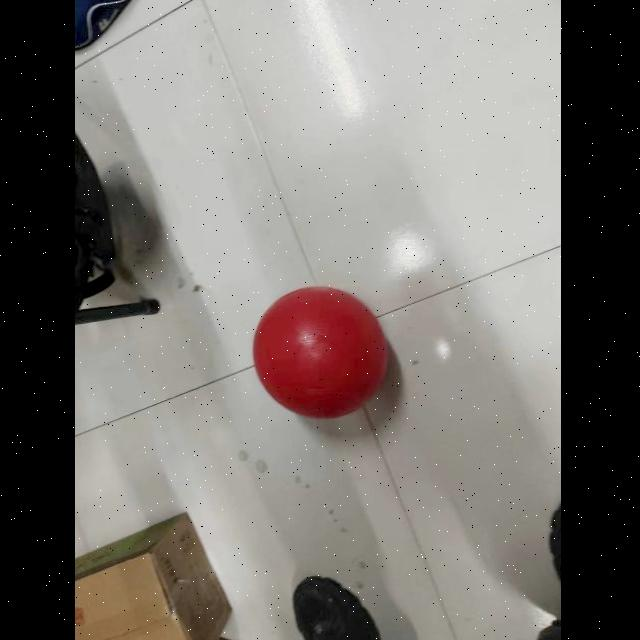R: (252, 286, 388, 420)
